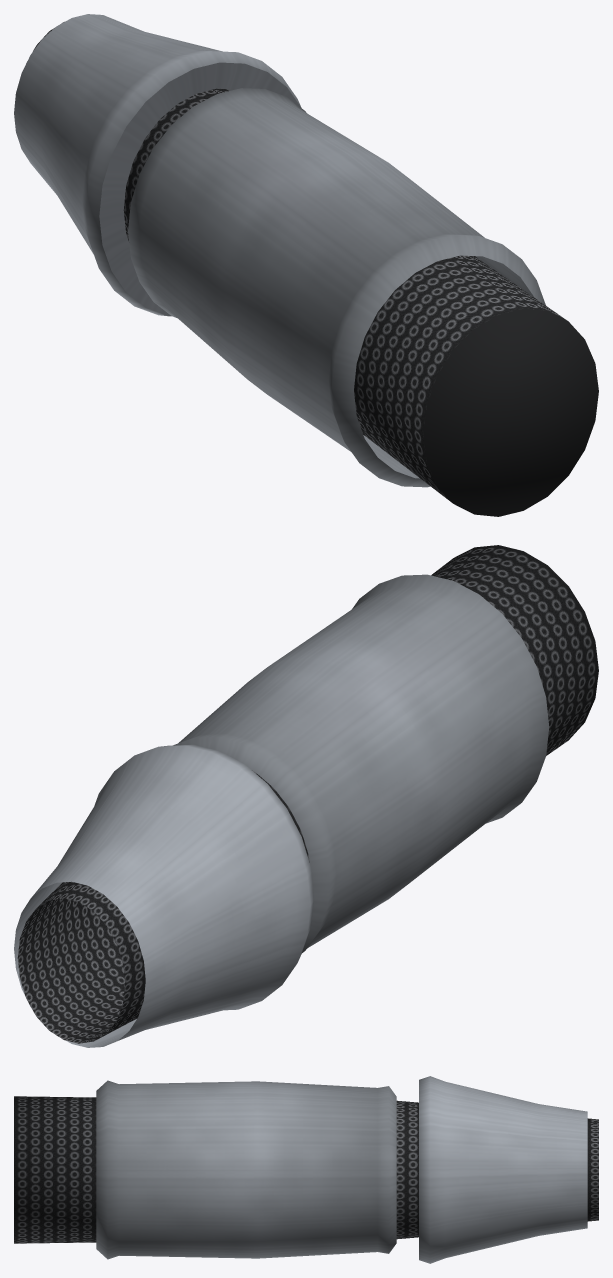
Rendered from fp_forearm.glb.
3 views of the same model, one above another, from view 1: azimuth 30°, elevation 25°; view 2: azimuth 150°, elevation 25°; view 3: azimuth 270°, elevation 25° (orthographic). The views are drawn at different scales.
Parts seen in each view (by area): view 1: fp_forearm; view 2: fp_forearm; view 3: fp_forearm.
Boxes of the visible parts, left/top/right/bottom form: fp_forearm: left=14, top=14, right=598, bottom=516; fp_forearm: left=14, top=545, right=598, bottom=1047; fp_forearm: left=14, top=1076, right=598, bottom=1263.
Size of the model in its own units: 0.092 by 0.1013 by 0.312.
Materials: 2 (2 with a texture image).
